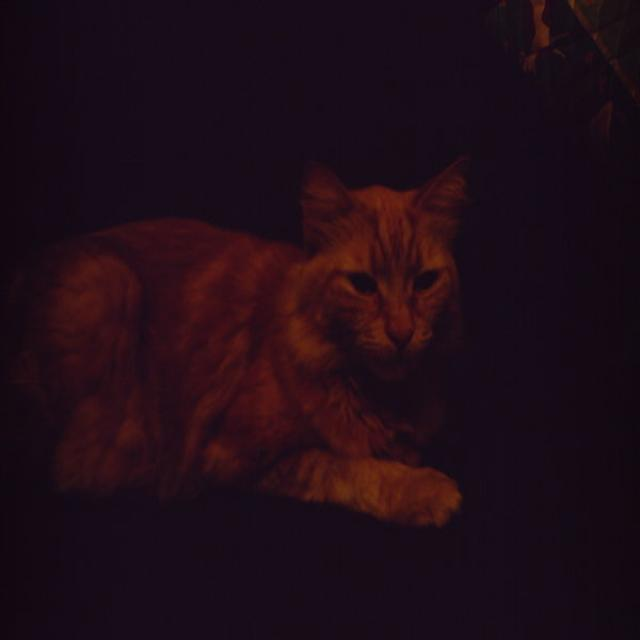Cat: (8, 154, 486, 561)
